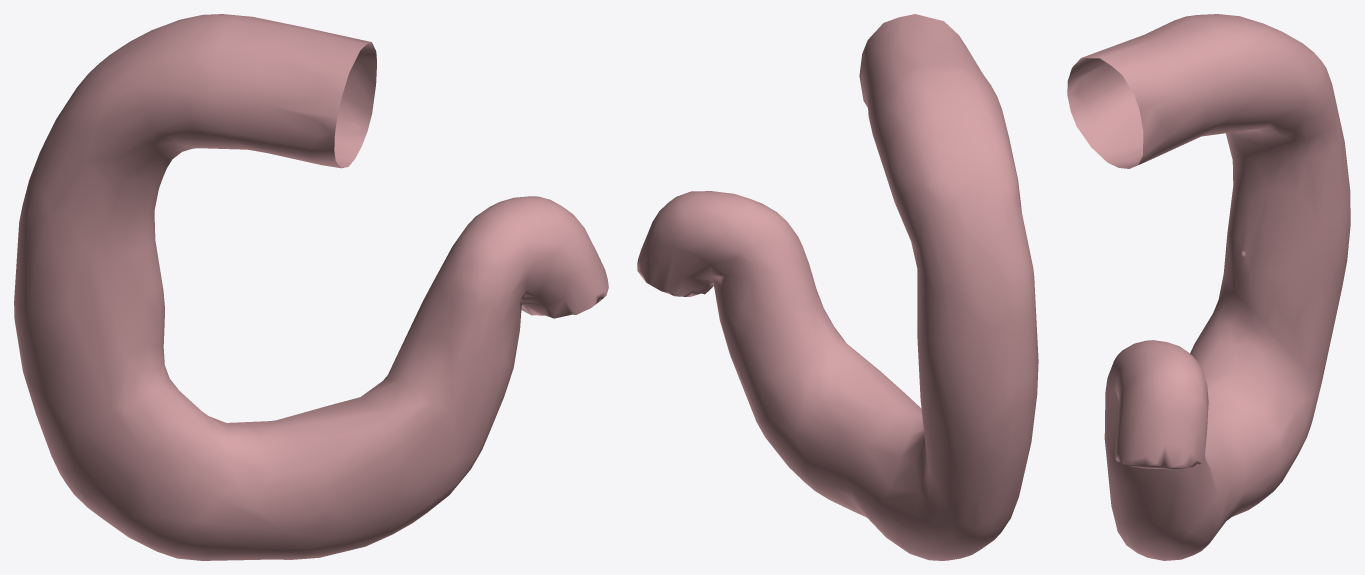
3 renders of one model, left to right at view 1: azimuth 30°, elevation 25°; view 2: azimuth 150°, elevation 25°; view 3: azimuth 270°, elevation 25°, orthographic. The views are drawn at different scales.
Visible parts, largest first — view 1: ZA_73e0cefc541f1b82; view 2: ZA_73e0cefc541f1b82; view 3: ZA_73e0cefc541f1b82.
Boxes of the visible parts, <box> form: ZA_73e0cefc541f1b82: <box>14,14,608,560</box>; ZA_73e0cefc541f1b82: <box>637,14,1038,560</box>; ZA_73e0cefc541f1b82: <box>1067,14,1350,560</box>.
Bounding box in the file's own units: 0.098 × 0.0984 × 0.0516.
